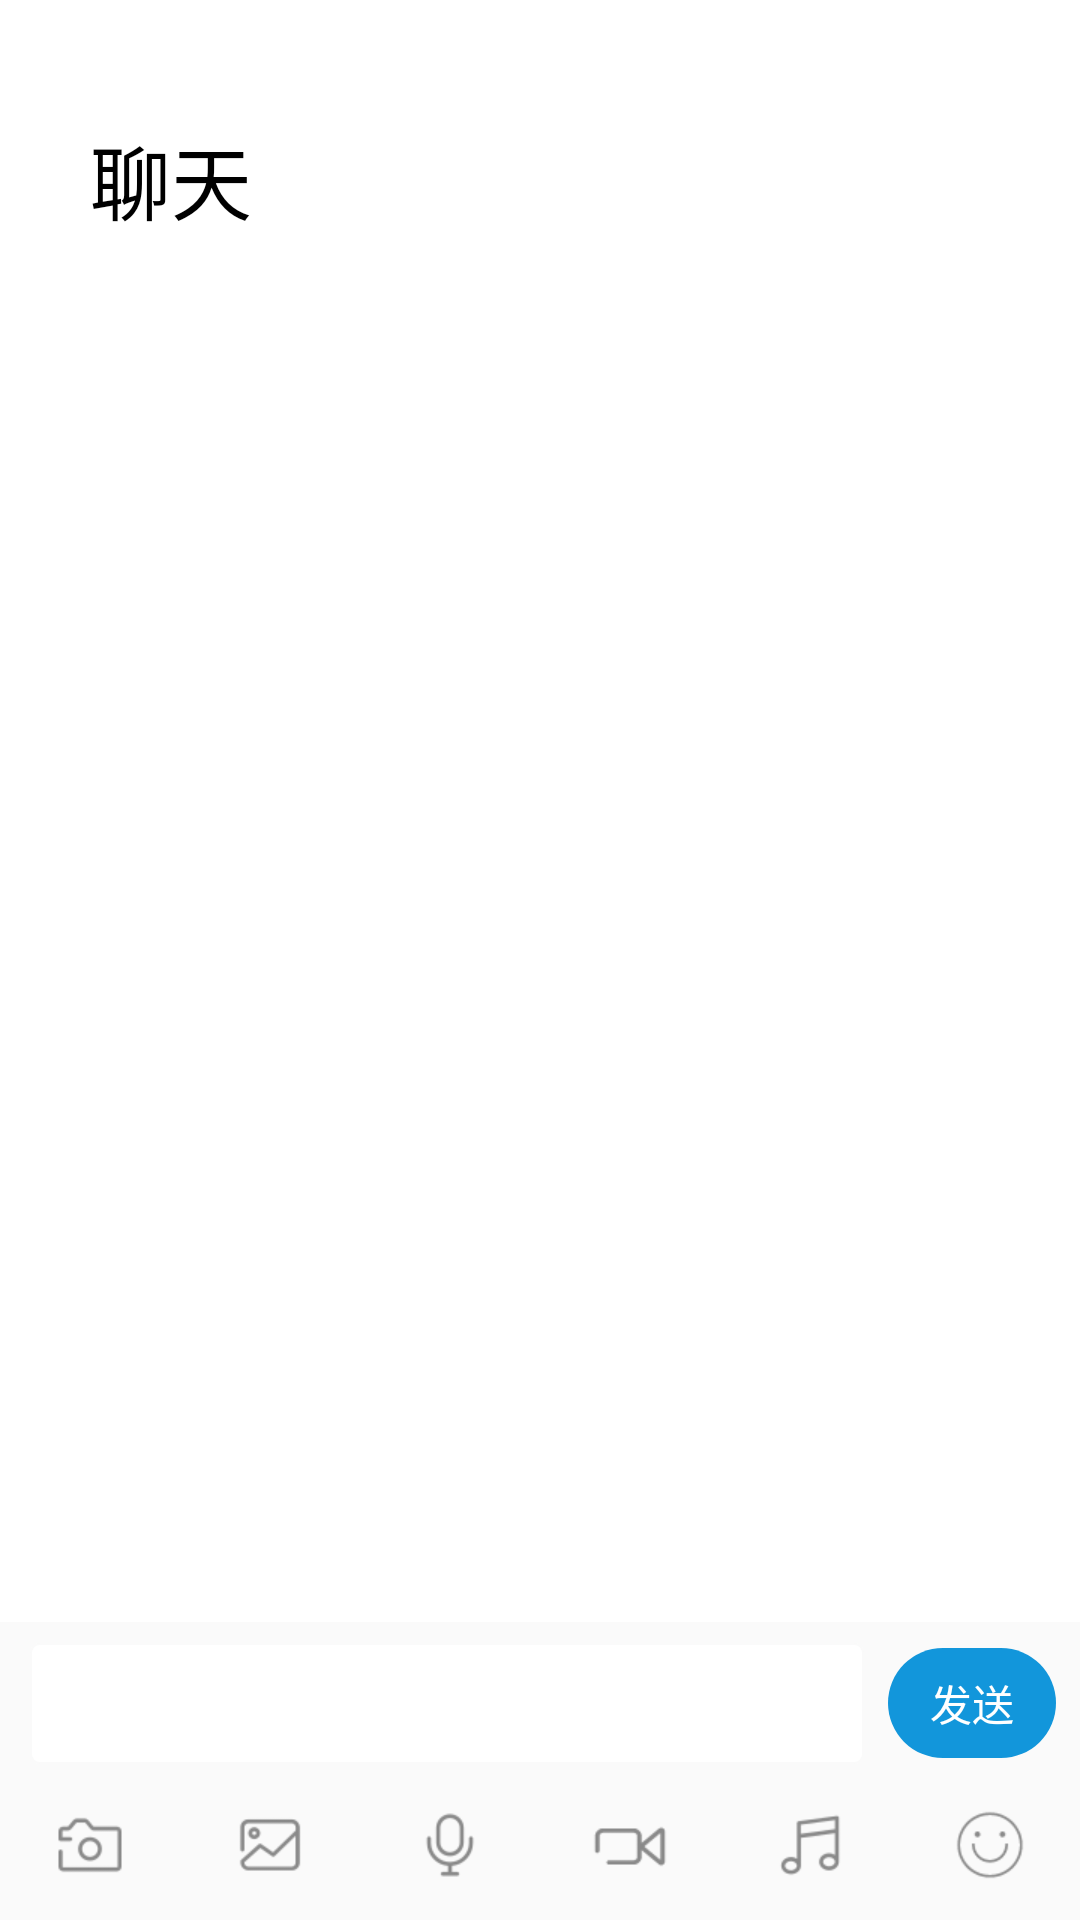

Where icons sit on this 1080*1920 app screen, as (x1, y1, x2, y2):
bottom camera: (58, 1818, 122, 1872)
bottom face: (957, 1812, 1023, 1878)
bottom music: (781, 1815, 839, 1875)
bottom pic: (240, 1819, 300, 1871)
bottom video: (595, 1827, 665, 1866)
bottom voice: (426, 1813, 474, 1877)
